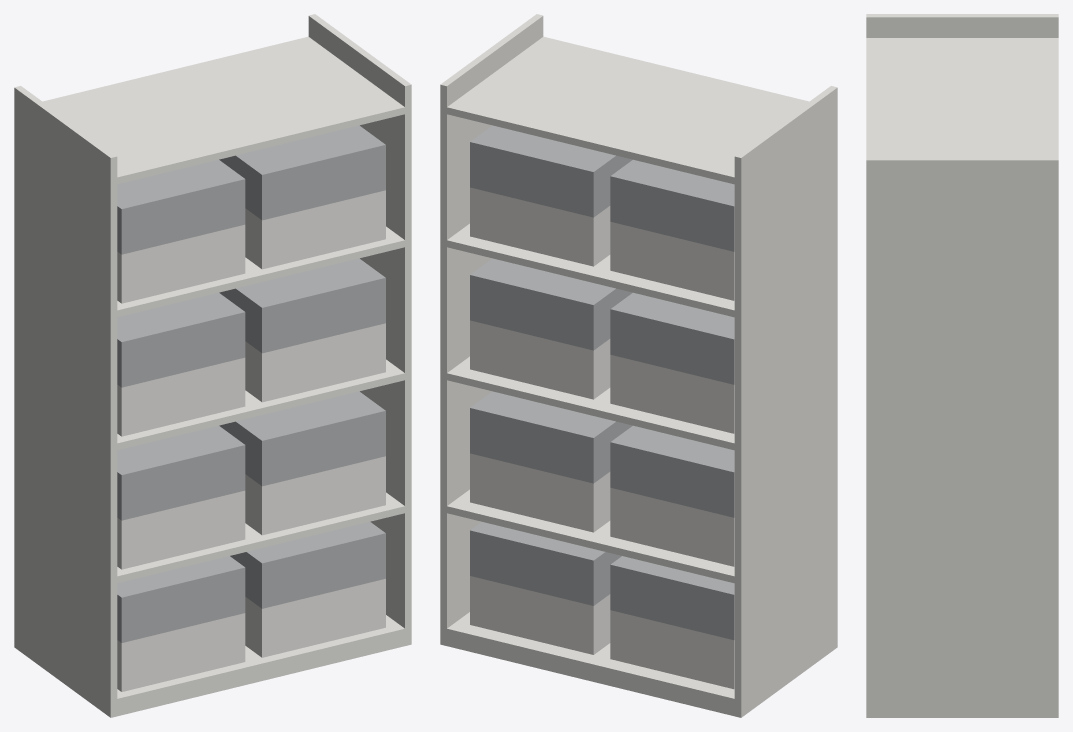
Rendered from pk_pillowtower.glb.
The picture shows the model from 3 angles, left to right: view 1: azimuth 30°, elevation 25°; view 2: azimuth 150°, elevation 25°; view 3: azimuth 270°, elevation 25°; orthographic projection.
Parts seen in each view (by area): view 1: pk_pillowtower; view 2: pk_pillowtower; view 3: pk_pillowtower.
Boxes of the visible parts, <box> form: pk_pillowtower: <box>14,14,411,717</box>; pk_pillowtower: <box>440,14,837,717</box>; pk_pillowtower: <box>866,14,1058,717</box>.
Bounding box in the file's own units: 0.9 × 1.6 × 0.5.
1 material, 1 textured.
